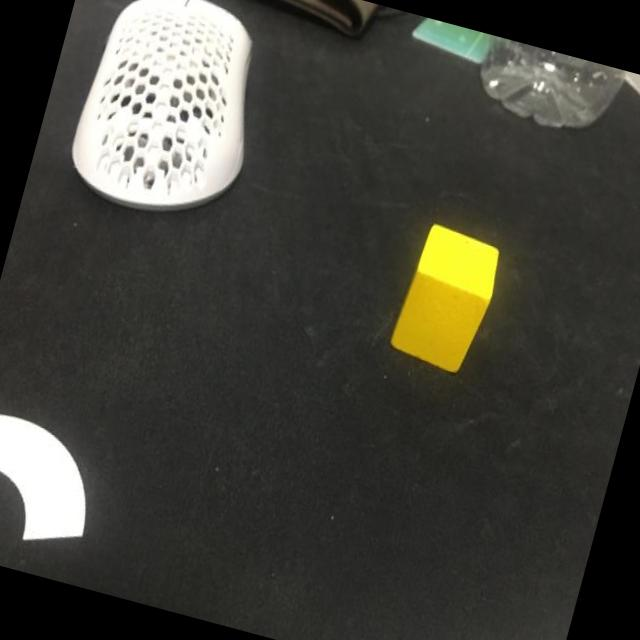yellow: (387, 220, 506, 378)
